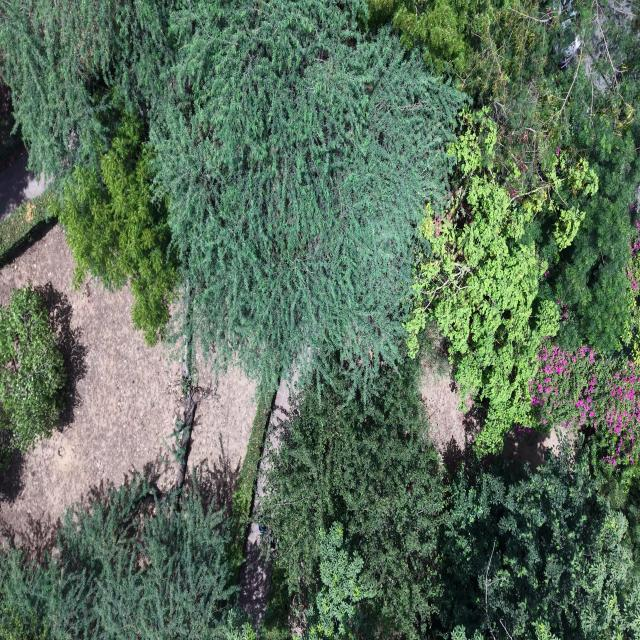DRY_AREA: (0, 226, 182, 554), (0, 226, 183, 552), (240, 370, 298, 624), (421, 358, 479, 465), (421, 360, 479, 461), (421, 362, 465, 450), (0, 153, 48, 220)
VEGETATION_TREE: (0, 0, 639, 639), (0, 0, 639, 451), (0, 0, 466, 386), (150, 0, 465, 385), (260, 360, 639, 639), (262, 366, 639, 638), (373, 2, 639, 360), (0, 0, 178, 344), (370, 0, 638, 194), (260, 357, 445, 638), (407, 110, 559, 451), (0, 475, 255, 639), (439, 439, 639, 638), (458, 0, 637, 180), (0, 0, 168, 176), (54, 115, 178, 345), (527, 112, 639, 353), (530, 113, 639, 354), (531, 342, 639, 566), (530, 343, 639, 481), (0, 287, 65, 463), (368, 0, 488, 73), (230, 390, 276, 570), (306, 523, 374, 638), (0, 192, 54, 264), (603, 473, 639, 567), (0, 84, 24, 170), (626, 220, 639, 362)
